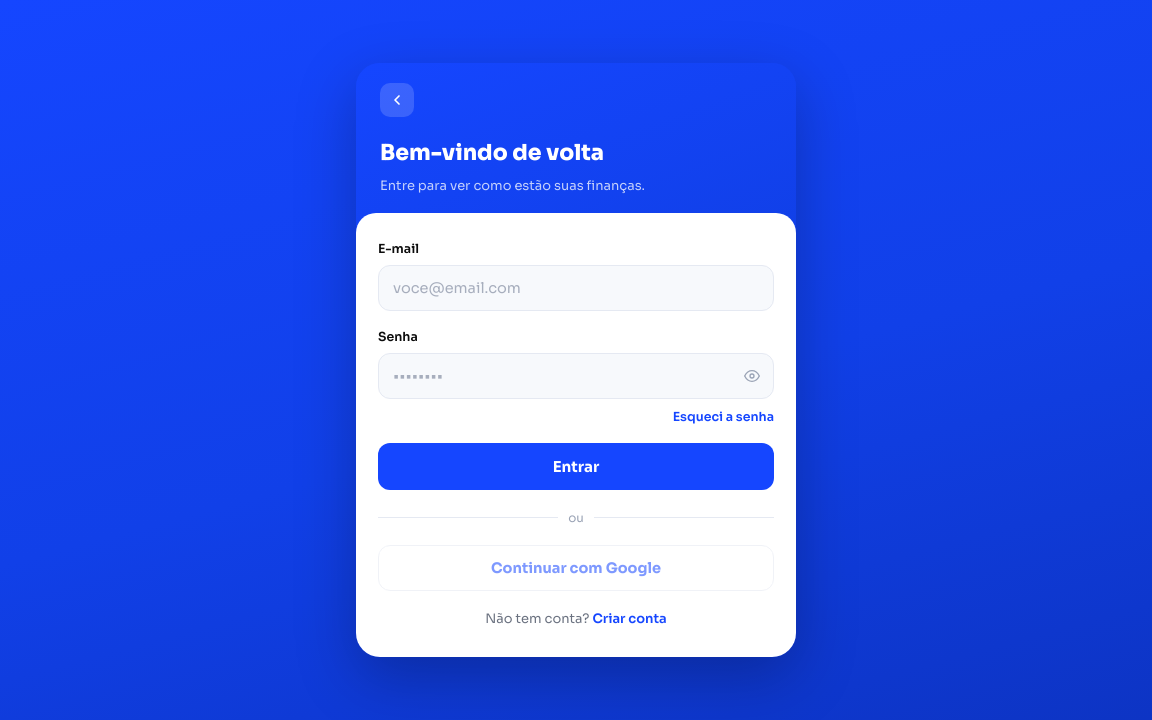
Test: Login — modo entrar › mostra erro de senha muito curta
The width and height of the screenshot is (1152, 720).
Type "user@test.com" into the field labelled "E-mail" at (576, 288), box [378,264,774,310]
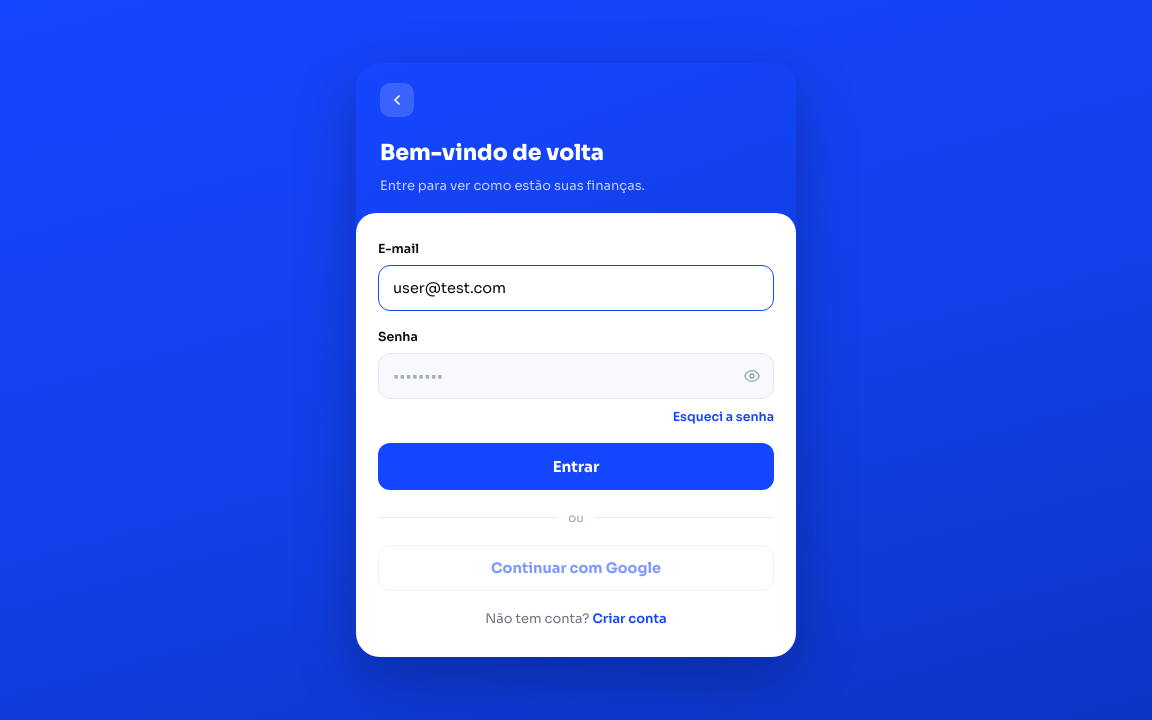
Type "123" into the password field labelled "Senha" at (576, 376), box [378,352,774,398]
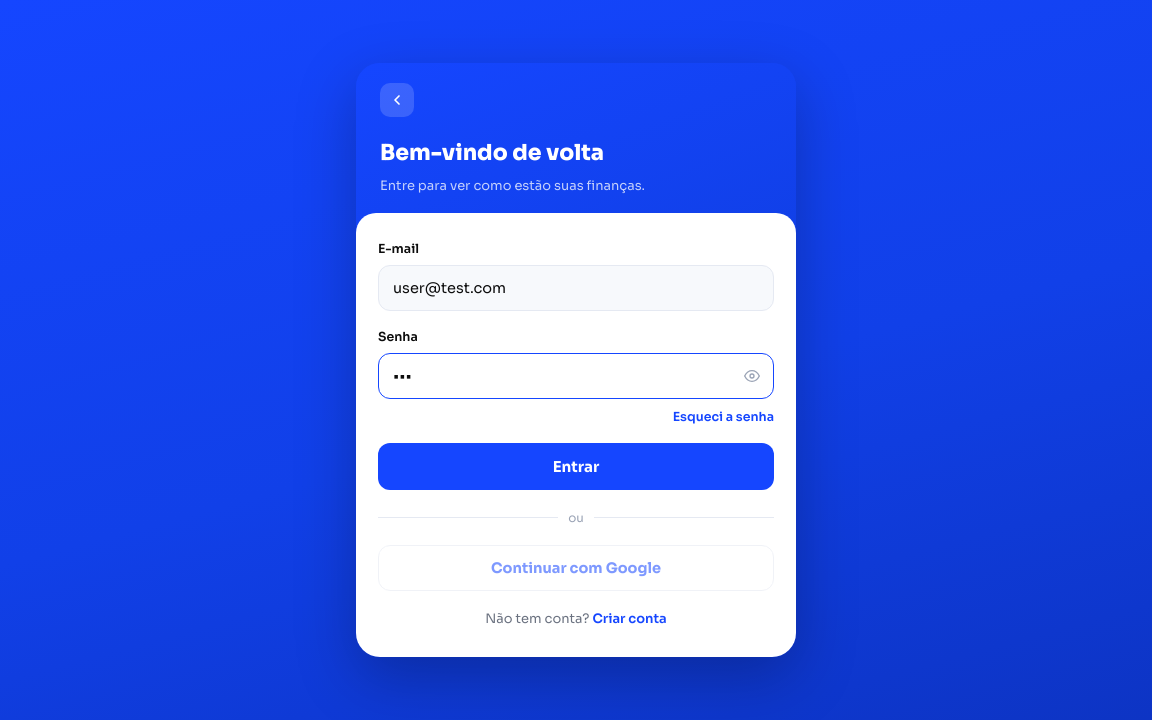
Click the button "Entrar" at (576, 466), box [378,442,774,490]
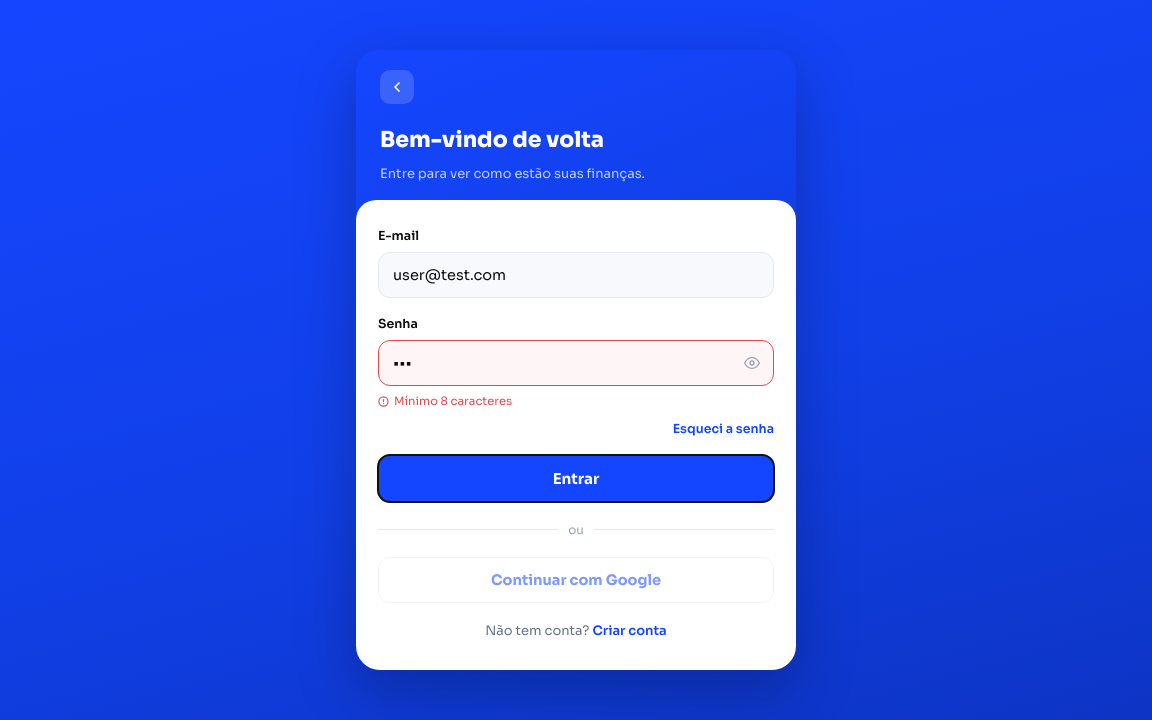
Now the text "Mínimo 8 caracteres" is shown, box [378,394,512,408]
